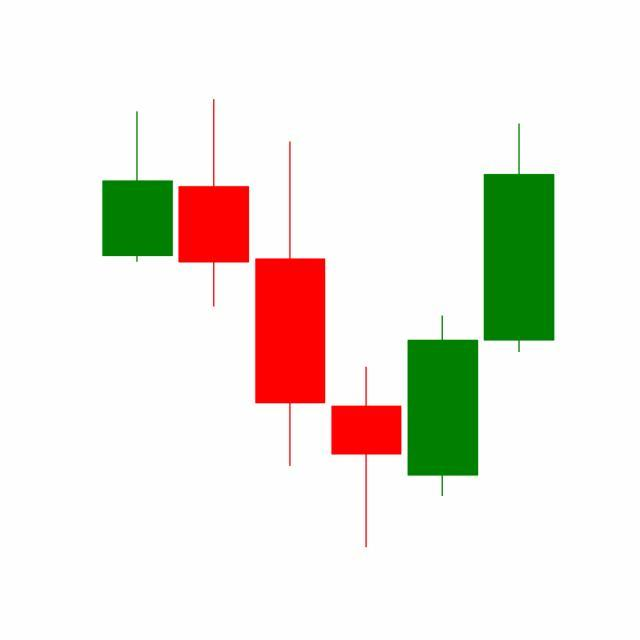Morning Star: (252, 137, 482, 548)
